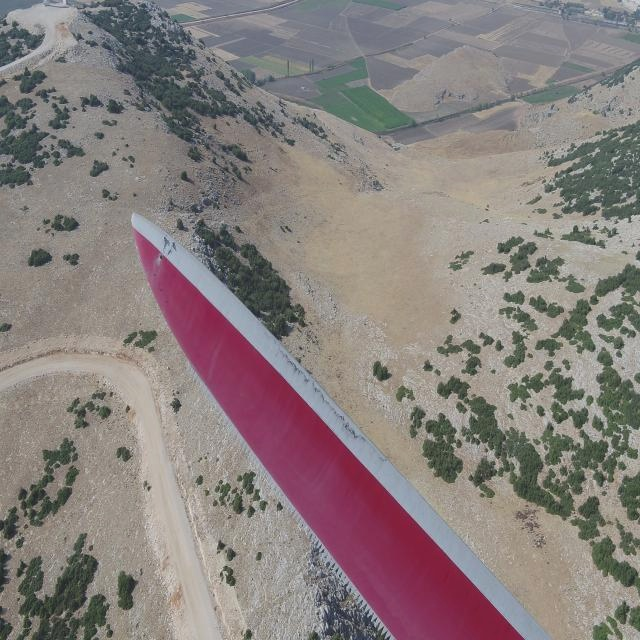Coating_defects: (274, 347, 369, 449), (157, 235, 178, 266)
